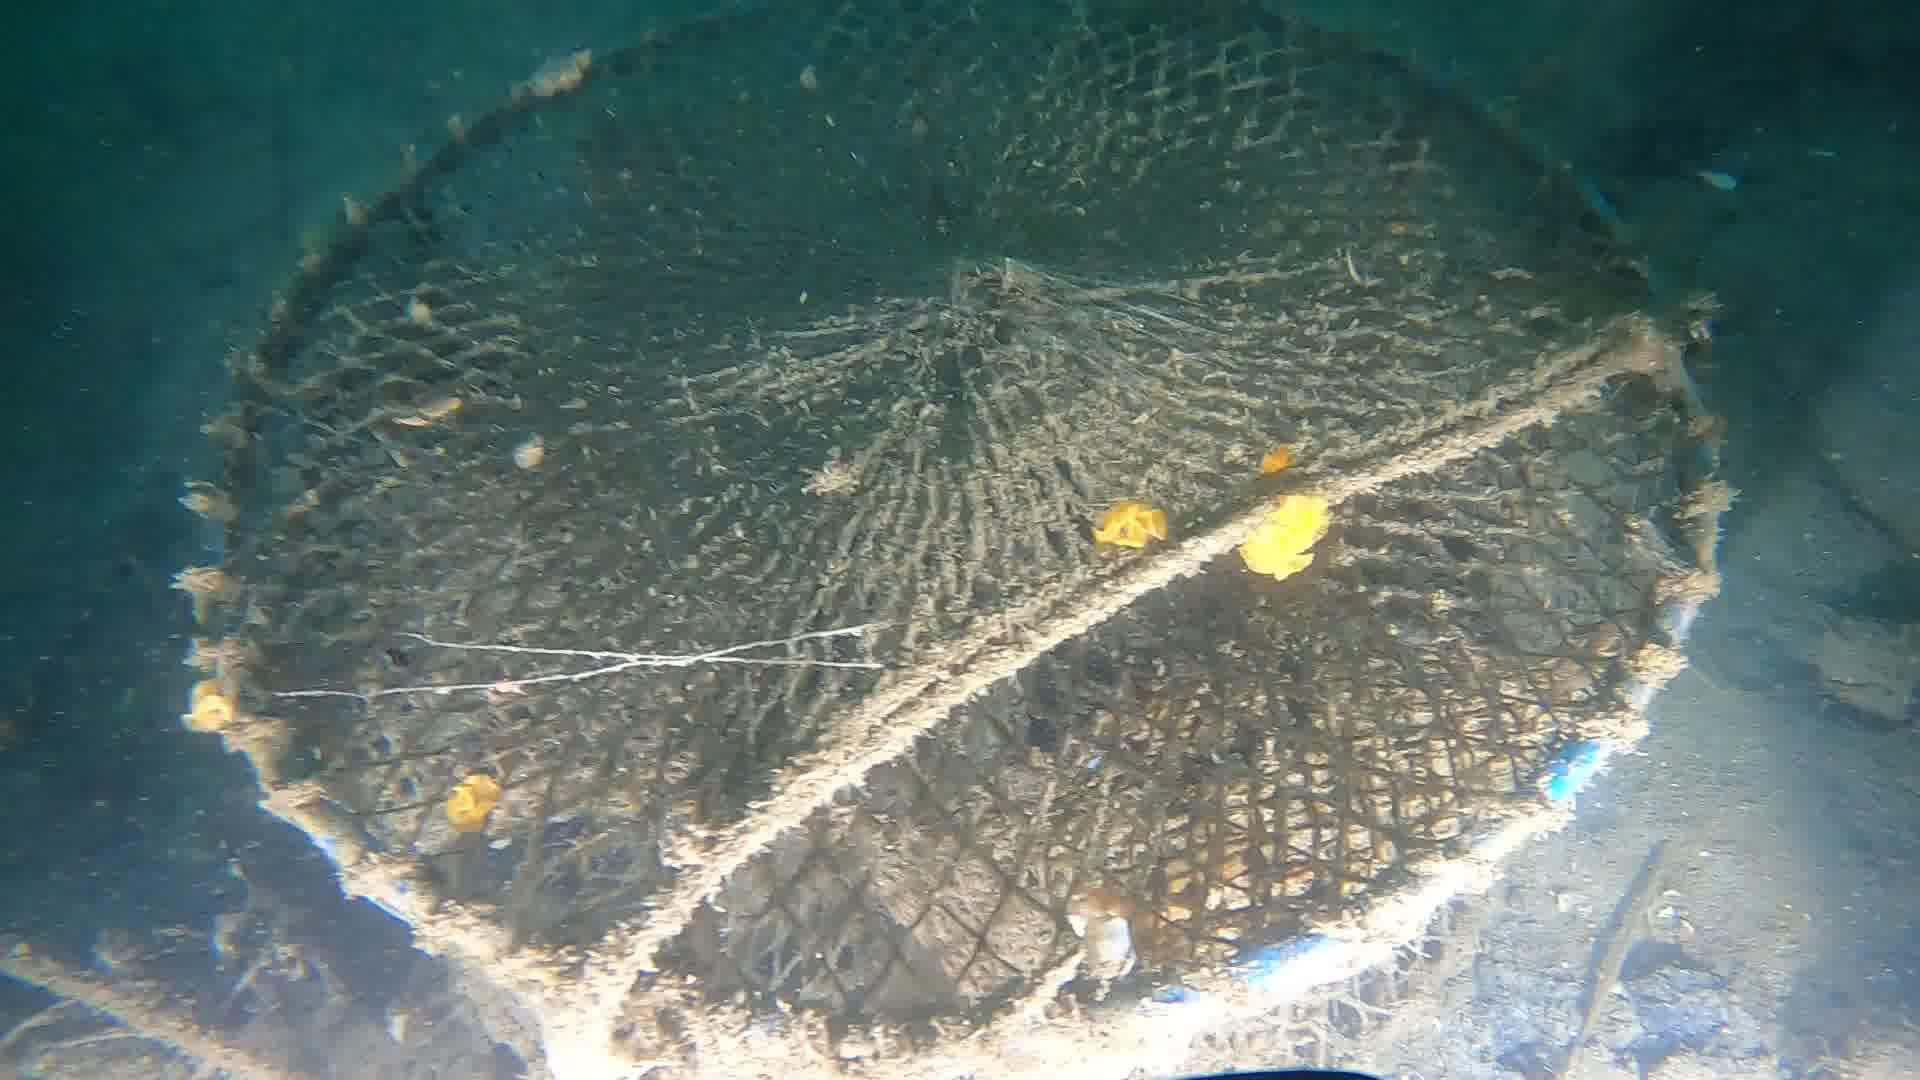circular fish trap: (208, 1, 1727, 1080)
rope: (488, 257, 1759, 1051)
